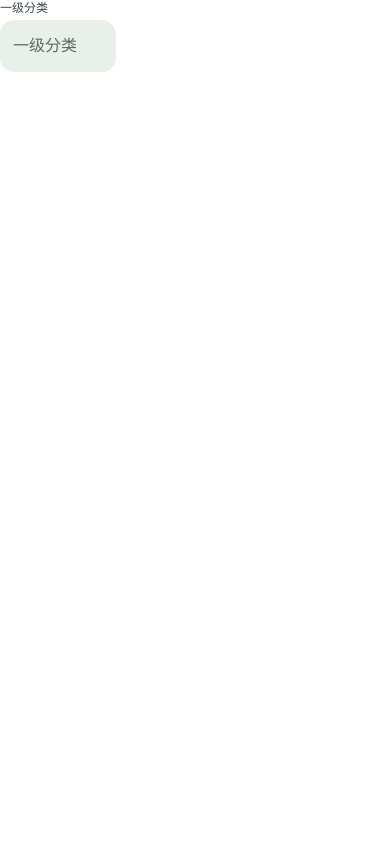
Test: CategoryPicker › level-1 options are two lines: name plus the classification criterion
The width and height of the screenshot is (390, 844).
Click the button with test id "cat-trigger".
click(58, 46)  # box [0,20,116,72]
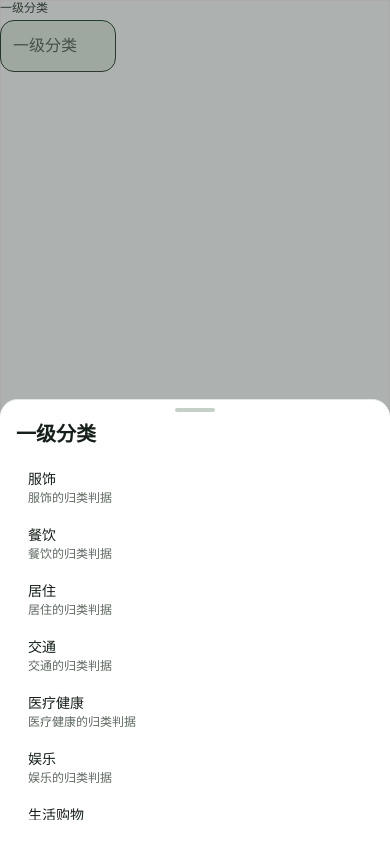
Expected: the menu item with test id "cat-l1-food" shows "餐饮", [28,528,112,561]
